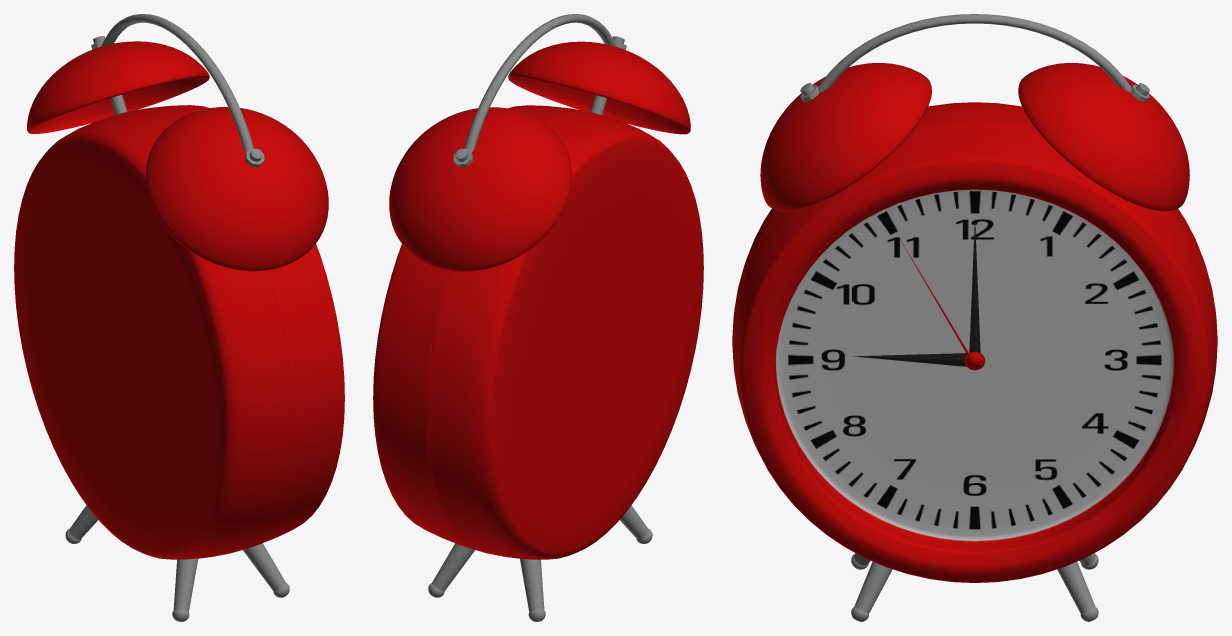
File: alarm_clock_fbx.fbx
3 views of the same model, side by side, from view 1: azimuth 30°, elevation 25°; view 2: azimuth 150°, elevation 25°; view 3: azimuth 270°, elevation 25° (orthographic). The views are drawn at different scales.
Visible parts, largest first — view 1: alarm_clock; view 2: alarm_clock; view 3: alarm_clock.
Part boxes in pixels (<box>): alarm_clock: <box>14,14,344,621</box>; alarm_clock: <box>373,14,703,621</box>; alarm_clock: <box>732,14,1217,621</box>.
Bounding box in the file's own units: 191 × 600 × 455.
Materials: 2 (2 with a texture image).
